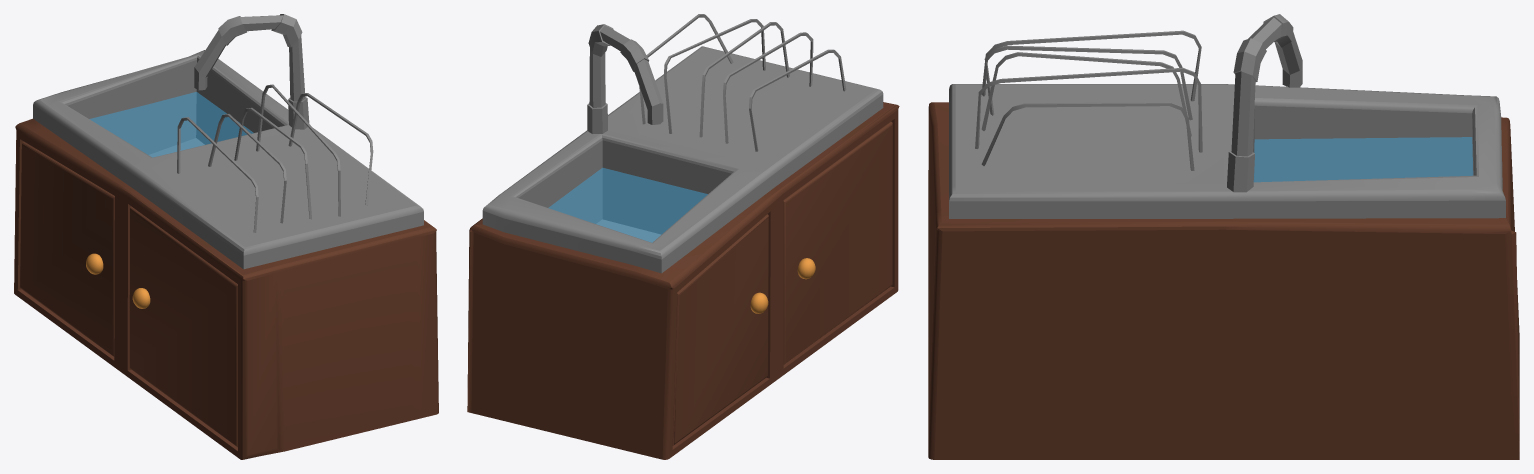
File: DishWashing.fbx
3 views of the same model, side by side, from view 1: azimuth 30°, elevation 25°; view 2: azimuth 150°, elevation 25°; view 3: azimuth 270°, elevation 25° (orthographic). The views are drawn at different scales.
Visible parts, largest first — view 1: Sink Base, Sink and Drying Rack, Plane, Faucet, Rack; view 2: Sink Base, Sink and Drying Rack, Plane, Faucet, Rack; view 3: Sink Base, Sink and Drying Rack, Plane, Rack, Faucet.
Part boxes in pixels (x1,y1,x2,y2): Sink Base: (14, 118, 438, 459); Sink and Drying Rack: (33, 50, 423, 269); Plane: (89, 92, 253, 157); Faucet: (194, 14, 309, 129); Rack: (177, 84, 373, 232); Sink Base: (467, 102, 899, 459); Sink and Drying Rack: (482, 46, 883, 273); Plane: (549, 168, 707, 242); Faucet: (587, 24, 663, 133); Rack: (639, 14, 846, 151); Sink Base: (928, 102, 1519, 459); Sink and Drying Rack: (949, 84, 1505, 218); Plane: (1253, 137, 1473, 182); Rack: (975, 30, 1202, 170); Faucet: (1227, 14, 1302, 192).
Size of the model in its own units: 105 by 150 by 200.
